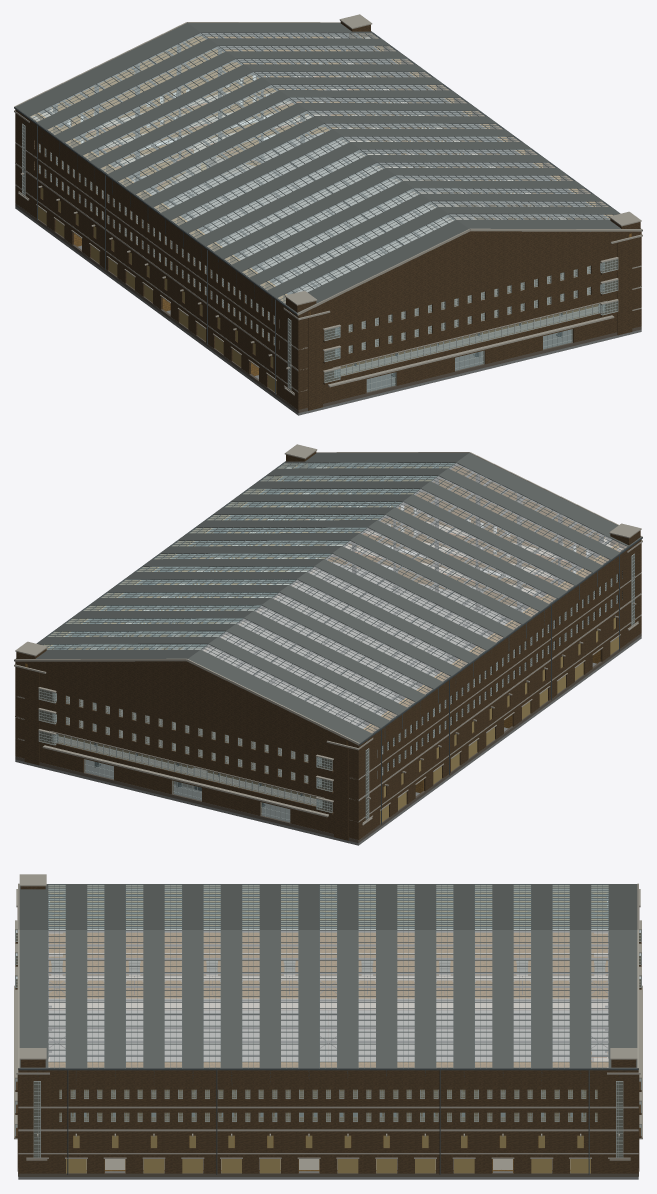
3 renders of one model, top to bottom at view 1: azimuth 30°, elevation 25°; view 2: azimuth 150°, elevation 25°; view 3: azimuth 270°, elevation 25°, orthographic. The views are drawn at different scales.
Visible parts, largest first — view 1: Roof | opaque folded decking_71, Roof | 15 full-width translucent skylight strips_69, Front | gabled masonry shell_18, Roof | skylight mullions and standing seams_72, West | exterior masonry_75, Foundation | 70m x 100m_10, Roof | longitudinal I purlins and cross bracing_70, Front | end facade windows and entrance glazing_15, Front West | corner stair volume_13, Rear | yellow interior gable lining_52, Front | gable coping entrance canopy_17, West | office floors canopy plinths_77 (+30 smaller); view 2: Roof | opaque folded decking_71, Roof | 15 full-width translucent skylight strips_69, Rear | gabled masonry shell_39, Roof | skylight mullions and standing seams_72, West | exterior masonry_75, Foundation | 70m x 100m_10, Roof | longitudinal I purlins and cross bracing_70, Rear | end facade windows and entrance glazing_36, Front | yellow interior gable lining_30, Rear | gable coping entrance canopy_38, Rear West | corner stair volume_33, West | office floors canopy plinths_77 (+29 smaller); view 3: Roof | opaque folded decking_71, East | exterior masonry_2, Roof | 15 full-width translucent skylight strips_69, Roof | skylight mullions and standing seams_72, West | yellow brick office wall_80, Foundation | 70m x 100m_10, Roof | longitudinal I purlins and cross bracing_70, East | office floors canopy plinths_4, East | loading doors lintels and hoists_3, East | yellow brick office wall_7, East | 16 triple office groups x 2 levels_1, Floor | side loading aprons and drainage joints_9 (+11 smaller).
Part boxes in pixels (x1=…): Roof | opaque folded decking_71: x1=15, y1=23, x2=620, y2=313; Roof | 15 full-width translucent skylight strips_69: x1=30, y1=33, x2=612, y2=302; Front | gabled masonry shell_18: x1=297, y1=231, x2=641, y2=409; Roof | skylight mullions and standing seams_72: x1=29, y1=32, x2=616, y2=303; West | exterior masonry_75: x1=15, y1=110, x2=300, y2=409; Foundation | 70m x 100m_10: x1=15, y1=132, x2=641, y2=415; Roof | longitudinal I purlins and cross bracing_70: x1=45, y1=33, x2=609, y2=307; Front | end facade windows and entrance glazing_15: x1=334, y1=263, x2=605, y2=392; Front West | corner stair volume_13: x1=279, y1=291, x2=340, y2=410; Rear | yellow interior gable lining_52: x1=52, y1=36, x2=347, y2=178; Front | gable coping entrance canopy_17: x1=297, y1=228, x2=642, y2=412; West | office floors canopy plinths_77: x1=15, y1=114, x2=307, y2=412; Roof | opaque folded decking_71: x1=36, y1=453, x2=641, y2=743; Roof | 15 full-width translucent skylight strips_69: x1=44, y1=463, x2=626, y2=732; Rear | gabled masonry shell_39: x1=15, y1=661, x2=359, y2=839; Roof | skylight mullions and standing seams_72: x1=40, y1=462, x2=627, y2=733; West | exterior masonry_75: x1=356, y1=539, x2=641, y2=839; Foundation | 70m x 100m_10: x1=15, y1=562, x2=641, y2=845; Roof | longitudinal I purlins and cross bracing_70: x1=47, y1=463, x2=611, y2=737; Rear | end facade windows and entrance glazing_36: x1=51, y1=693, x2=322, y2=822; Front | yellow interior gable lining_30: x1=309, y1=466, x2=604, y2=608; Rear | gable coping entrance canopy_38: x1=14, y1=658, x2=359, y2=842; Rear West | corner stair volume_33: x1=316, y1=736, x2=377, y2=840; West | office floors canopy plinths_77: x1=349, y1=557, x2=641, y2=842; Roof | opaque folded decking_71: x1=19, y1=884, x2=637, y2=1068; East | exterior masonry_2: x1=18, y1=1070, x2=638, y2=1173; Roof | 15 full-width translucent skylight strips_69: x1=48, y1=885, x2=608, y2=1067; Roof | skylight mullions and standing seams_72: x1=48, y1=884, x2=608, y2=1068; West | yellow brick office wall_80: x1=49, y1=891, x2=607, y2=998; Foundation | 70m x 100m_10: x1=18, y1=1010, x2=638, y2=1179; Roof | longitudinal I purlins and cross bracing_70: x1=48, y1=889, x2=608, y2=1056; East | office floors canopy plinths_4: x1=18, y1=1089, x2=638, y2=1176; East | loading doors lintels and hoists_3: x1=26, y1=1133, x2=630, y2=1173; East | yellow brick office wall_7: x1=48, y1=1062, x2=608, y2=1171; East | 16 triple office groups x 2 levels_1: x1=59, y1=1089, x2=597, y2=1121; Floor | side loading aprons and drainage joints_9: x1=49, y1=998, x2=607, y2=1169.
Bounding box in the file's own units: 37.07 × 14.65 × 52.72.
Materials: 16 (2 with a texture image).
